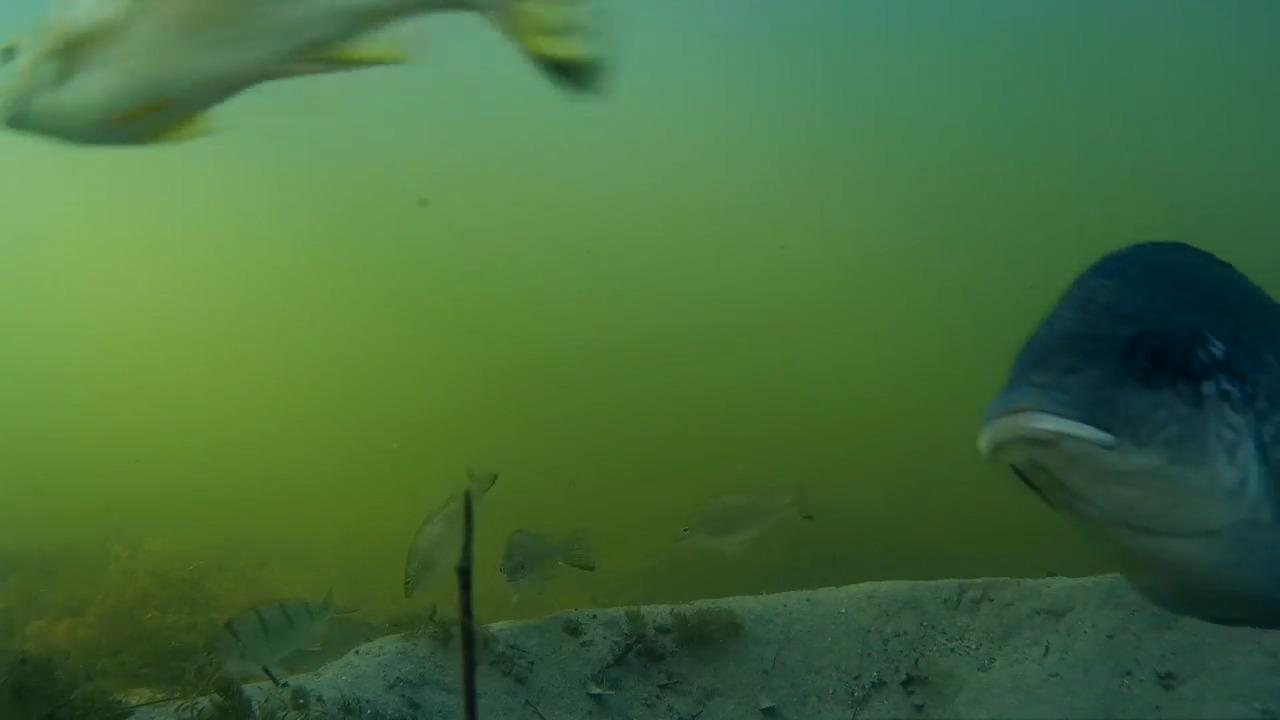Tilapia: (966, 229, 1280, 568), (0, 0, 637, 158), (347, 448, 494, 600), (201, 590, 360, 714), (487, 496, 600, 596), (672, 483, 820, 550)
